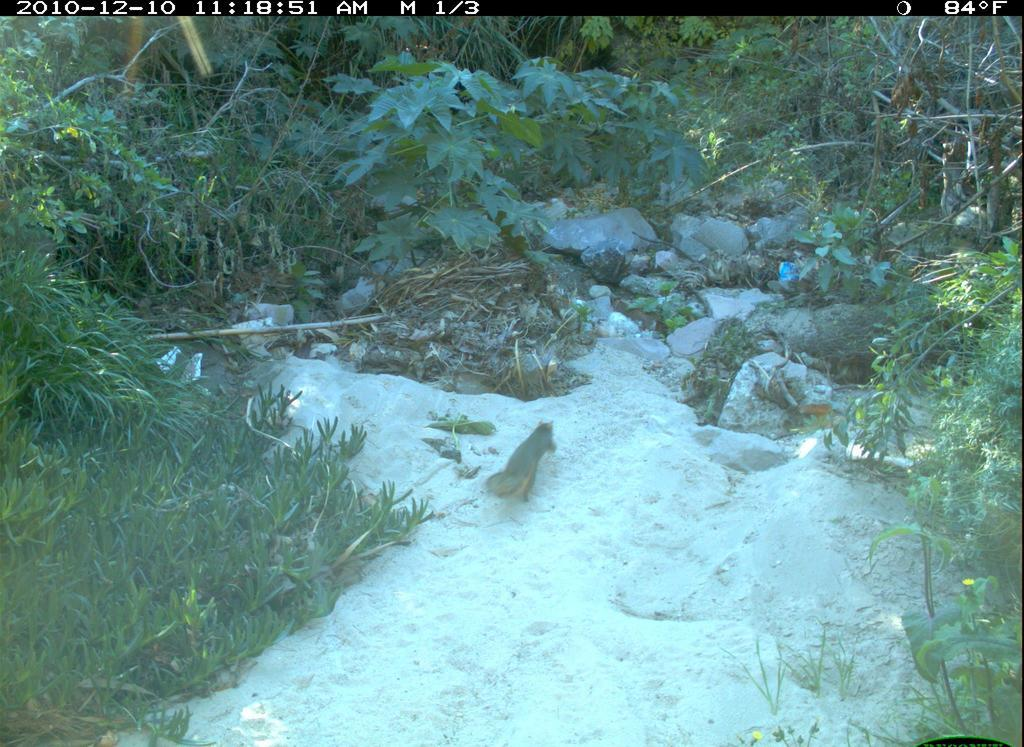squirrel: (481, 415, 560, 509)
